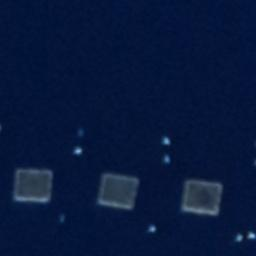square_cover: (91, 167, 147, 213), (176, 173, 229, 219), (10, 164, 58, 206)
